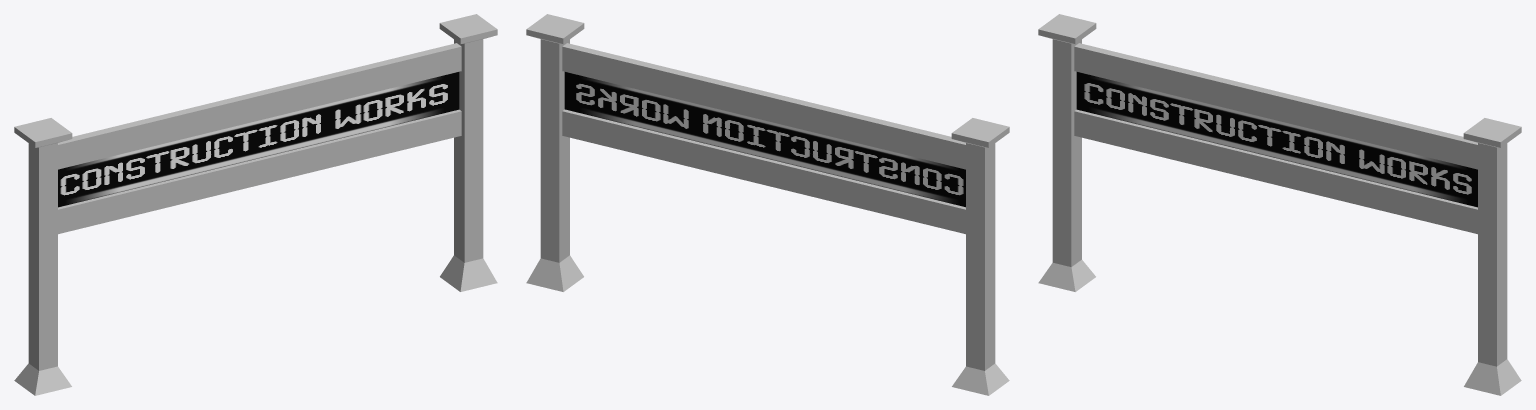
Rendered from Fence_4.fbx.
3 renders of one model, left to right at view 1: azimuth 30°, elevation 25°; view 2: azimuth 150°, elevation 25°; view 3: azimuth 330°, elevation 25°, orthographic.
Visible parts, largest first — view 1: Fence_4; view 2: Fence_4; view 3: Fence_4.
Part boxes in pixels (x1,y1,x2,y2): Fence_4: [14, 14, 497, 395]; Fence_4: [526, 14, 1009, 395]; Fence_4: [1038, 14, 1521, 395].
Bounding box in the file's own units: 201 × 105 × 15.84.
